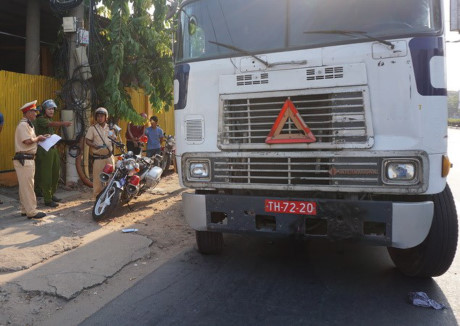plate: (264, 196, 318, 218)
